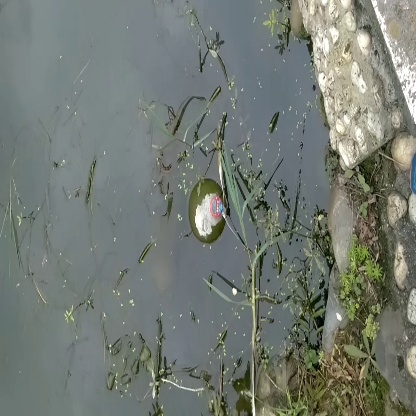plastic-bag: (193, 185, 228, 240)
